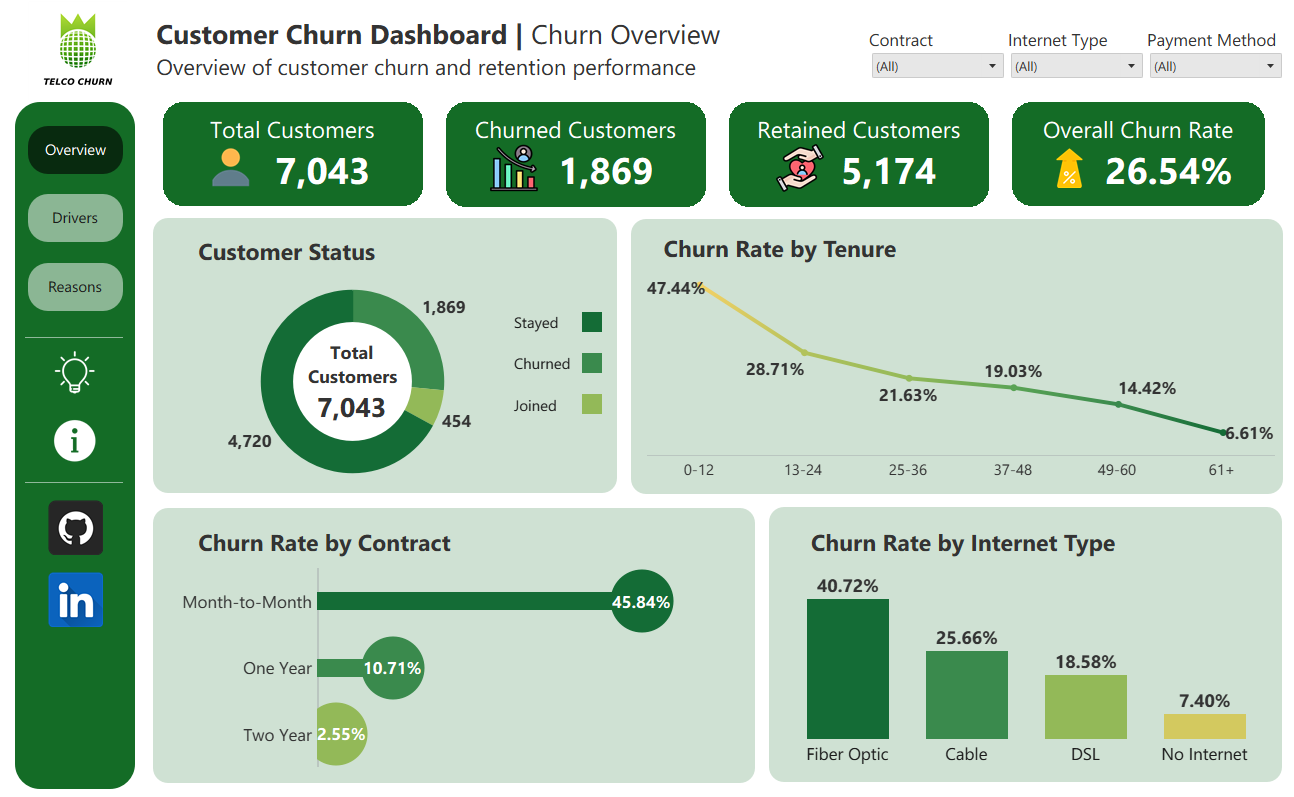

The dashboard page shown, as its layout file describes it:
{"tool":"tableau","page":{"name":"Churn Overview","canvas":[1300,800],"ordinal":2},"visuals":[{"type":"blank","box":[0,0,1300,800]},{"type":"image","param":"Image/logo telco churn.png","box":[12,3,135,99]},{"type":"title","box":[155,12,1145,76]},{"type":"filter","title":"Churn Rate by Tenure","param":"[federated.0dy3o9a1uu2yej10acfmx0xb347r].[none:Contract:nk]","box":[871,30,138,51]},{"type":"filter","title":"Customer Status","param":"[federated.0dy3o9a1uu2yej10acfmx0xb347r].[none:Internet Type:nk]","box":[1010,30,138,51]},{"type":"filter","title":"Customer Status","param":"[federated.0dy3o9a1uu2yej10acfmx0xb347r].[none:Payment Method:nk]","box":[1149,30,138,51]},{"type":"blank","box":[17,104,120,687]},{"type":"worksheet","title":"KPI Total Customers","mark":"Automatic","box":[165,104,260,104]},{"type":"worksheet","title":"KPI - Churned Customers","mark":"Automatic","box":[448,104,260,105]},{"type":"worksheet","title":"KPI-Retained Customers","mark":"Automatic","box":[731,104,260,105]},{"type":"worksheet","title":"KPI - Churn Rate","mark":"Automatic","box":[1014,104,253,104]},{"type":"dashboard-object","box":[30,128,95,48]},{"type":"image","param":"Image/icons8-customer-100.png","box":[203,145,60,49]},{"type":"image","param":"Image/churn-rate (1).png","box":[486,145,60,49]},{"type":"image","param":"Image/loyalty.png","box":[772,145,60,49]},{"type":"image","param":"Image/interest.png","box":[1041,150,60,40]},{"type":"dashboard-object","box":[30,196,95,48]},{"type":"blank","box":[155,220,464,275]},{"type":"worksheet","title":"Churn Rate by Tenure","mark":"Line","rows":["Calculation_0893677035679745"],"cols":["Calculation_0893677042634755"],"box":[639,220,648,272]},{"type":"blank","box":[633,221,652,275]},{"type":"worksheet","title":"Customer Status","mark":"Pie","rows":["Calculation_0119897091858436","Calculation_0119897091858436"],"box":[161,223,387,275]},{"type":"dashboard-object","box":[30,265,95,48]},{"type":"worksheet","title":"Status Legend","mark":"Automatic","rows":["Customer Status"],"box":[510,303,104,124]},{"type":"blank","box":[27,339,98,1]},{"type":"dashboard-object","box":[54,352,45,45]},{"type":"dashboard-object","box":[54,420,45,45]},{"type":"blank","box":[27,484,98,1]},{"type":"image","param":"Image/github.png","box":[50,502,55,55]},{"type":"blank","box":[771,509,513,275]},{"type":"blank","box":[155,510,602,275]},{"type":"worksheet","title":"Churn Rate by Contract","mark":"Automatic","rows":["Contract"],"cols":["Calculation_0893677035679745","Calculation_0893677035679745"],"box":[161,514,593,265]},{"type":"worksheet","title":"Churn Rate by Internet Type","mark":"Automatic","rows":["Calculation_0893677035679745"],"cols":["Internet Type"],"box":[780,514,497,263]},{"type":"image","param":"Image/linkedin.png","box":[50,574,55,55]}]}

Visuals, with their boxes in screenshot pixels (x1, y1, x2, y2), scaled from the page's 1300x800 canvas onto the 1294x797 screenshot:
blank: (0,0,1293,796)
image: (12,3,146,102)
title: (154,12,1293,88)
"Churn Rate by Tenure" filter: (867,30,1004,81)
"Customer Status" filter: (1005,30,1143,81)
"Customer Status" filter: (1144,30,1281,81)
blank: (17,104,136,788)
"KPI Total Customers" worksheet: (164,104,423,207)
"KPI - Churned Customers" worksheet: (446,104,705,208)
"KPI-Retained Customers" worksheet: (728,104,986,208)
"KPI - Churn Rate" worksheet: (1009,104,1261,207)
dashboard-object: (30,128,124,175)
image: (202,144,262,193)
image: (484,144,543,193)
image: (768,144,828,193)
image: (1036,149,1096,189)
dashboard-object: (30,195,124,243)
blank: (154,219,616,493)
"Churn Rate by Tenure" worksheet (Line marks): (636,219,1281,490)
blank: (630,220,1279,494)
"Customer Status" worksheet (Pie marks): (160,222,545,496)
dashboard-object: (30,264,124,312)
"Status Legend" worksheet: (508,302,611,425)
blank: (27,338,124,339)
dashboard-object: (54,351,99,396)
dashboard-object: (54,418,99,463)
blank: (27,482,124,483)
image: (50,500,105,555)
blank: (767,507,1278,781)
blank: (154,508,754,782)
"Churn Rate by Contract" worksheet: (160,512,751,776)
"Churn Rate by Internet Type" worksheet: (776,512,1271,774)
image: (50,572,105,627)
